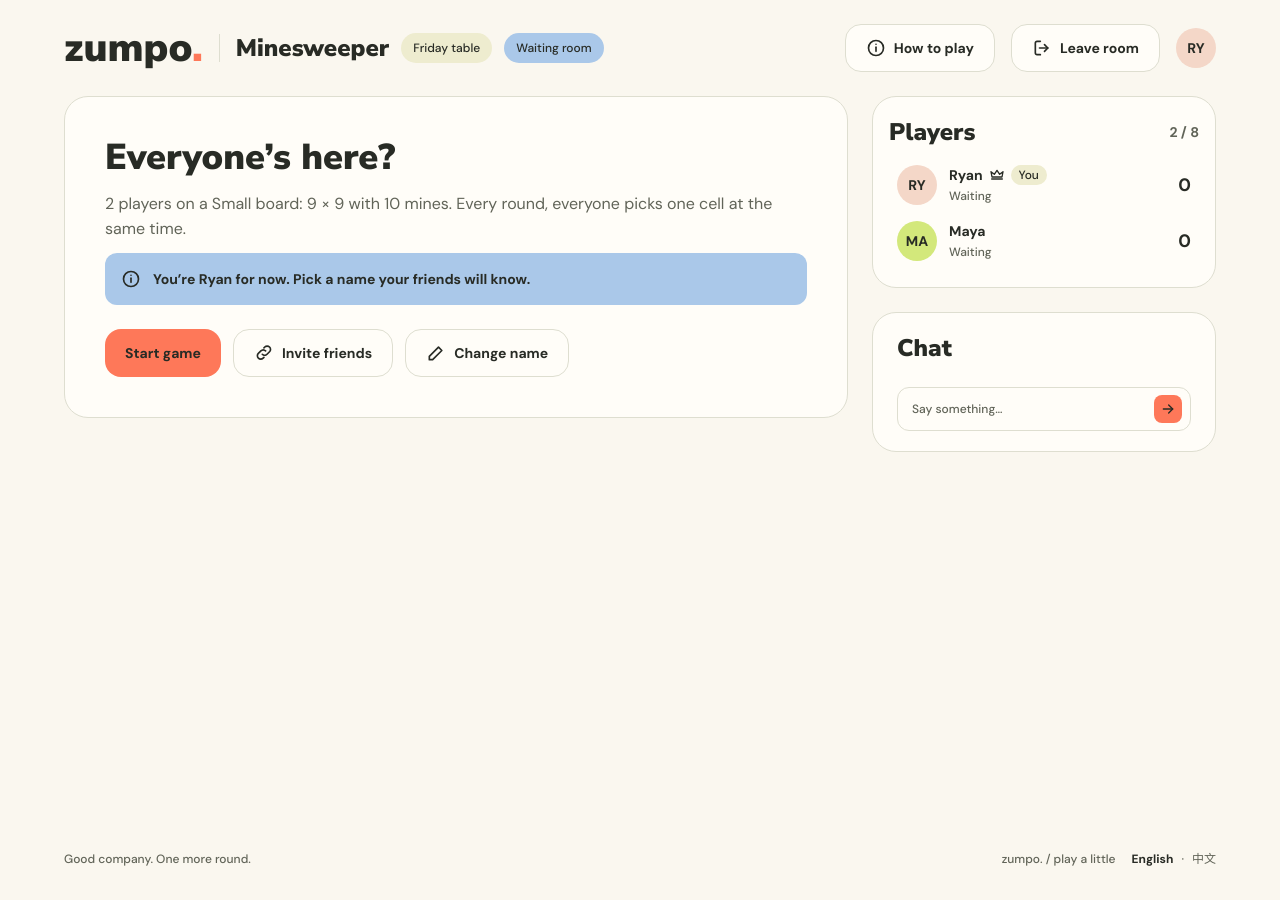
it: a Minesweeper room › asks a player still on a picked name for one their friends know
The width and height of the screenshot is (1280, 900).
Check: the text "You’re Ryan for now. Pick a name your friends will know." is shown, box [153,270,530,288]
Click the button "Change name".
click(487, 353)  # box [405,329,569,377]
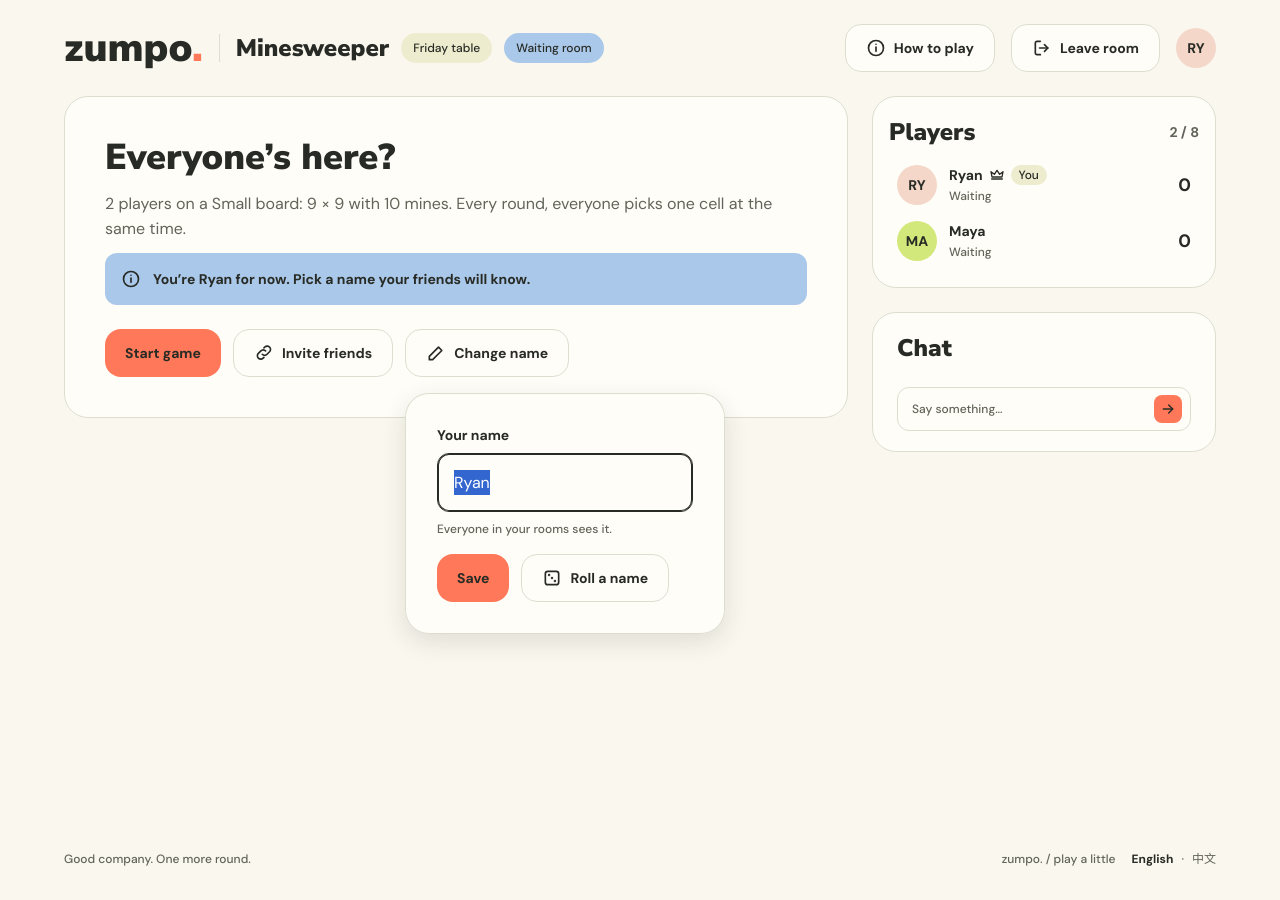
Replace the text in the field labelled "Your name" with "Grace" at (565,482), box [437,453,693,512]
Then press Enter
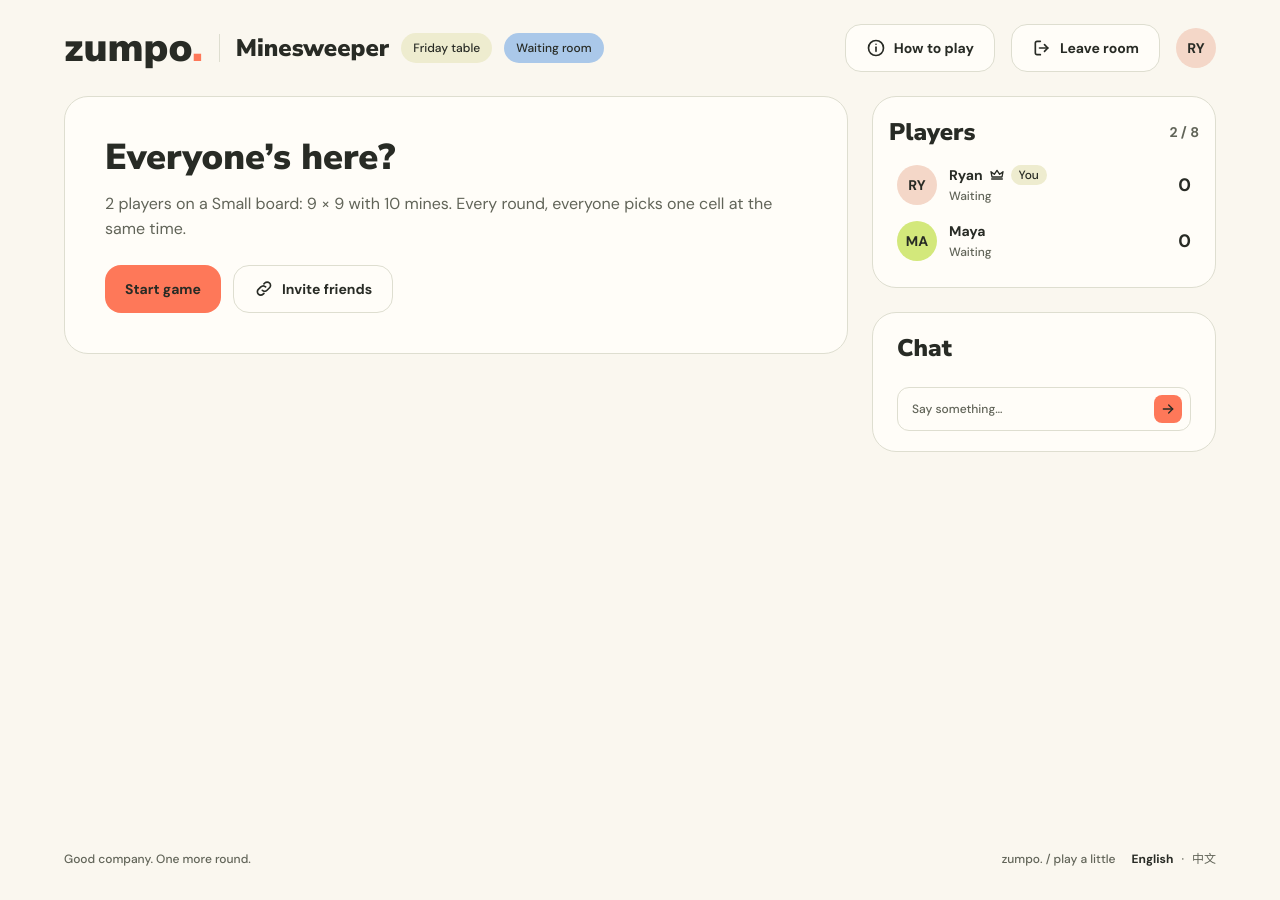
Check: the text "Pick a name your friends will know" is gone
